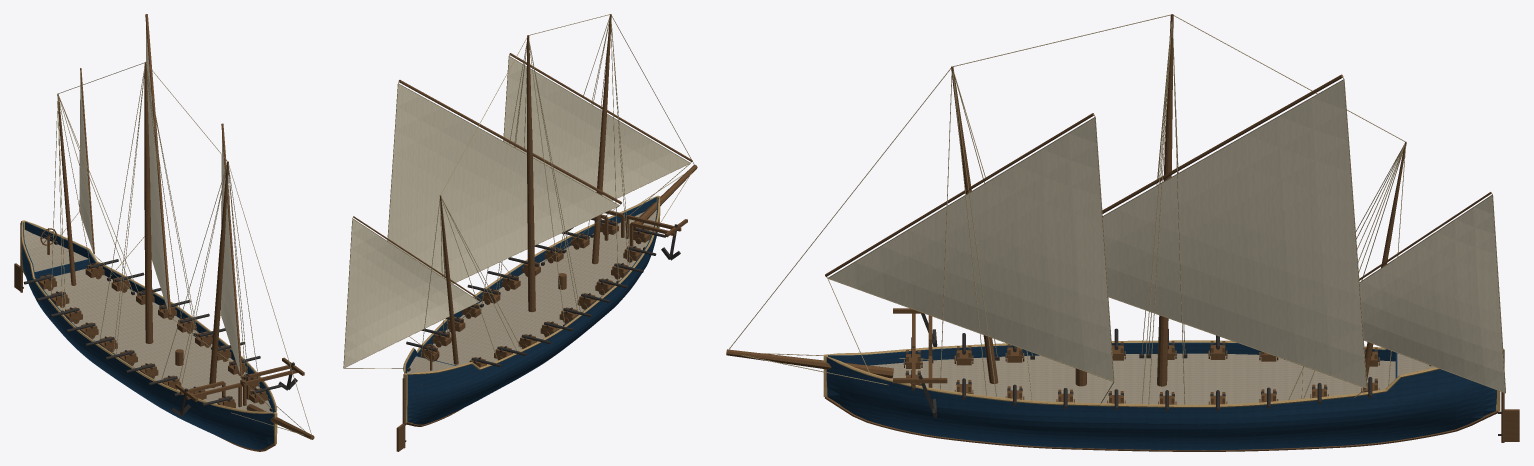
The picture shows the model from 3 angles, left to right: view 1: azimuth 30°, elevation 25°; view 2: azimuth 150°, elevation 25°; view 3: azimuth 270°, elevation 25°; orthographic projection. The views are drawn at different scales.
Parts seen in each view (by area): view 1: lod1_main_deck, lod1_hull_shell_starboard, lod1_main_lateen_00, lod1_main, lod1_fore_lateen_00, lod1_hull_shell_port, lod1_castle_deck_0, lod1_fore, lod1_mizzen_lateen_00, lod1_main_lateen_00_lateen_yard, lod1_gunwale_starboard, lod1_mizzen (+9 smaller); view 2: lod1_main_lateen_00, lod1_fore_lateen_00, lod1_mizzen_lateen_00, lod1_main_deck, lod1_hull_shell_starboard, lod1_main, lod1_fore, lod1_hull_shell_port, lod1_gunwale_starboard, lod1_main_lateen_00_lateen_yard, lod1_mizzen, lod1_fore_lateen_00_lateen_yard (+3 smaller); view 3: lod1_main_lateen_00, lod1_fore_lateen_00, lod1_hull_shell_port, lod1_mizzen_lateen_00, lod1_main_deck, lod1_hull_shell_starboard, lod1_gunwale_port, lod1_keel, lod1_main, lod1_bowsprit, lod1_main_lateen_00_lateen_yard, lod1_fore_lateen_00_lateen_yard (+2 smaller).
Boxes of the visible parts, bbox=[...] form: lod1_main_deck: bbox=[44, 268, 272, 412]; lod1_hull_shell_starboard: bbox=[22, 222, 273, 449]; lod1_main_lateen_00: bbox=[146, 30, 168, 310]; lod1_main: bbox=[144, 62, 153, 343]; lod1_fore_lateen_00: bbox=[221, 139, 240, 373]; lod1_hull_shell_port: bbox=[25, 222, 275, 412]; lod1_castle_deck_0: bbox=[24, 230, 88, 271]; lod1_fore: bbox=[209, 161, 228, 387]; lod1_mizzen_lateen_00: bbox=[79, 80, 93, 251]; lod1_main_lateen_00_lateen_yard: bbox=[145, 14, 171, 315]; lod1_gunwale_starboard: bbox=[21, 221, 273, 413]; lod1_mizzen: bbox=[57, 94, 76, 285]; lod1_main_lateen_00: bbox=[388, 84, 618, 283]; lod1_fore_lateen_00: bbox=[504, 57, 689, 200]; lod1_mizzen_lateen_00: bbox=[344, 219, 478, 367]; lod1_main_deck: bbox=[433, 210, 656, 365]; lod1_hull_shell_starboard: bbox=[407, 198, 658, 424]; lod1_main: bbox=[527, 35, 535, 312]; lod1_fore: bbox=[592, 14, 611, 264]; lod1_hull_shell_port: bbox=[405, 197, 656, 373]; lod1_gunwale_starboard: bbox=[407, 196, 660, 374]; lod1_main_lateen_00_lateen_yard: bbox=[398, 80, 621, 204]; lod1_mizzen: bbox=[439, 195, 458, 364]; lod1_fore_lateen_00_lateen_yard: bbox=[509, 53, 692, 161]; lod1_main_lateen_00: bbox=[1103, 80, 1366, 387]; lod1_fore_lateen_00: bbox=[829, 118, 1113, 380]; lod1_hull_shell_port: bbox=[826, 357, 1496, 450]; lod1_mizzen_lateen_00: bbox=[1359, 196, 1505, 392]; lod1_main_deck: bbox=[870, 353, 1395, 404]; lod1_hull_shell_starboard: bbox=[828, 342, 1395, 365]; lod1_gunwale_port: bbox=[826, 356, 1439, 407]; lod1_keel: bbox=[825, 396, 1498, 451]; lod1_main: bbox=[1157, 14, 1173, 386]; lod1_bowsprit: bbox=[726, 349, 893, 378]; lod1_main_lateen_00_lateen_yard: bbox=[1102, 74, 1343, 213]; lod1_fore_lateen_00_lateen_yard: bbox=[825, 113, 1094, 276].
Size of the model in its own units: 8.69 by 20.12 by 33.05.
7 materials, 7 textured.
